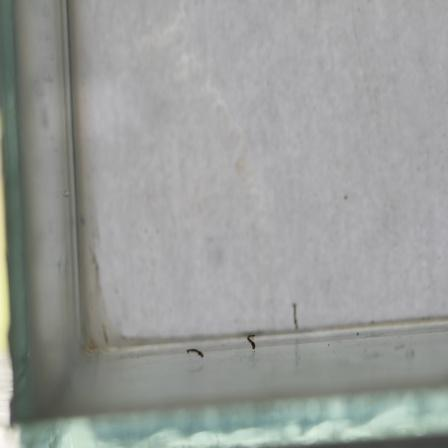Jentik-Nyamuk: (186, 345, 206, 362), (244, 333, 260, 352)
